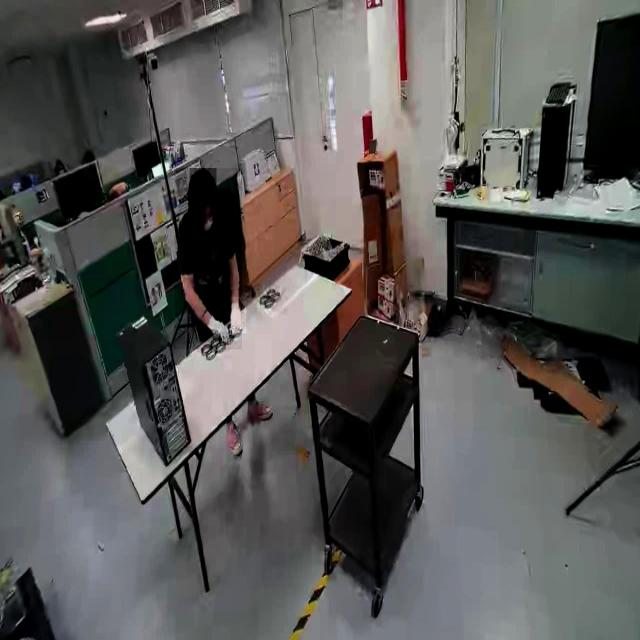face_mask: (197, 200, 217, 237)
hand_glove: (206, 310, 232, 342), (230, 297, 247, 334)
head_nohelmet: (189, 168, 217, 196)
person: (174, 168, 242, 350)
shoes: (224, 418, 246, 468), (245, 390, 275, 425)
